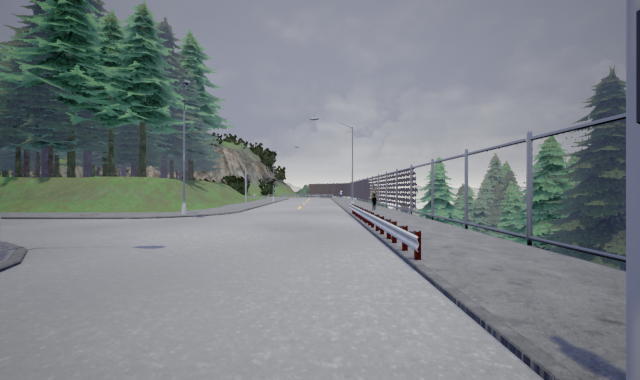pedestrian: (368, 186, 379, 211)
